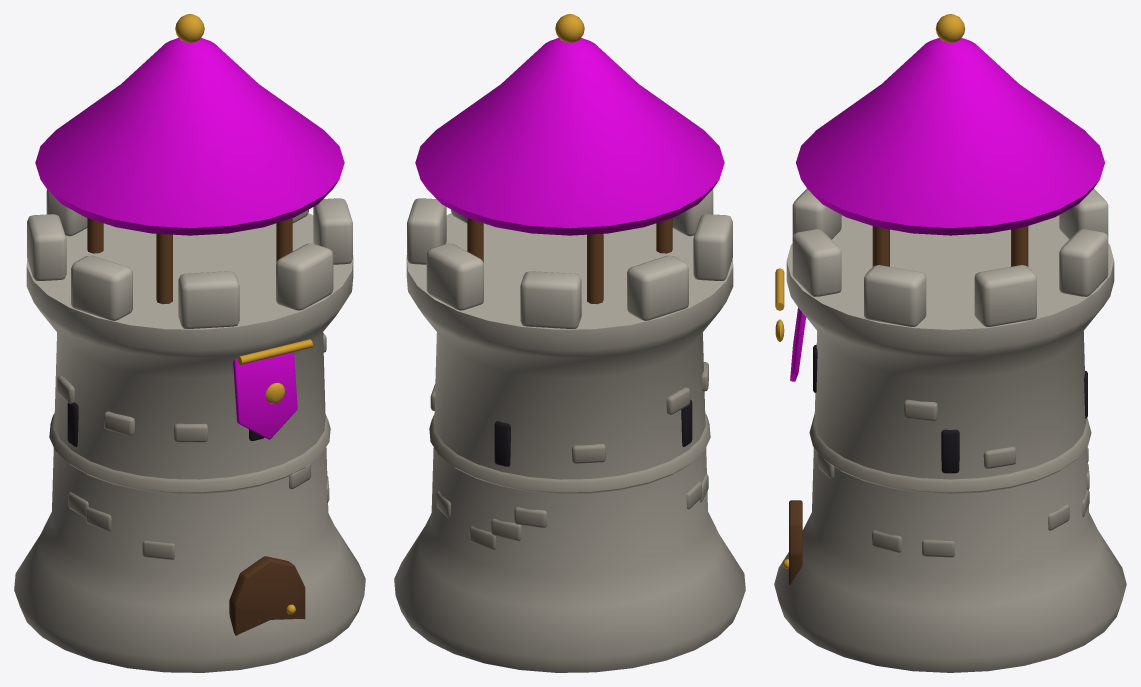
The model's file is torre.glb.
3 views of the same model, side by side, from view 1: azimuth 30°, elevation 25°; view 2: azimuth 150°, elevation 25°; view 3: azimuth 270°, elevation 25° (orthographic).
Visible parts, largest first — view 1: corpo; view 2: corpo; view 3: corpo.
Part boxes in pixels (x1,y1,x2,y2): corpo: [14, 14, 365, 672]; corpo: [394, 14, 745, 672]; corpo: [774, 14, 1126, 672].
Size of the model in its own units: 2.67 by 4.88 by 2.67.
